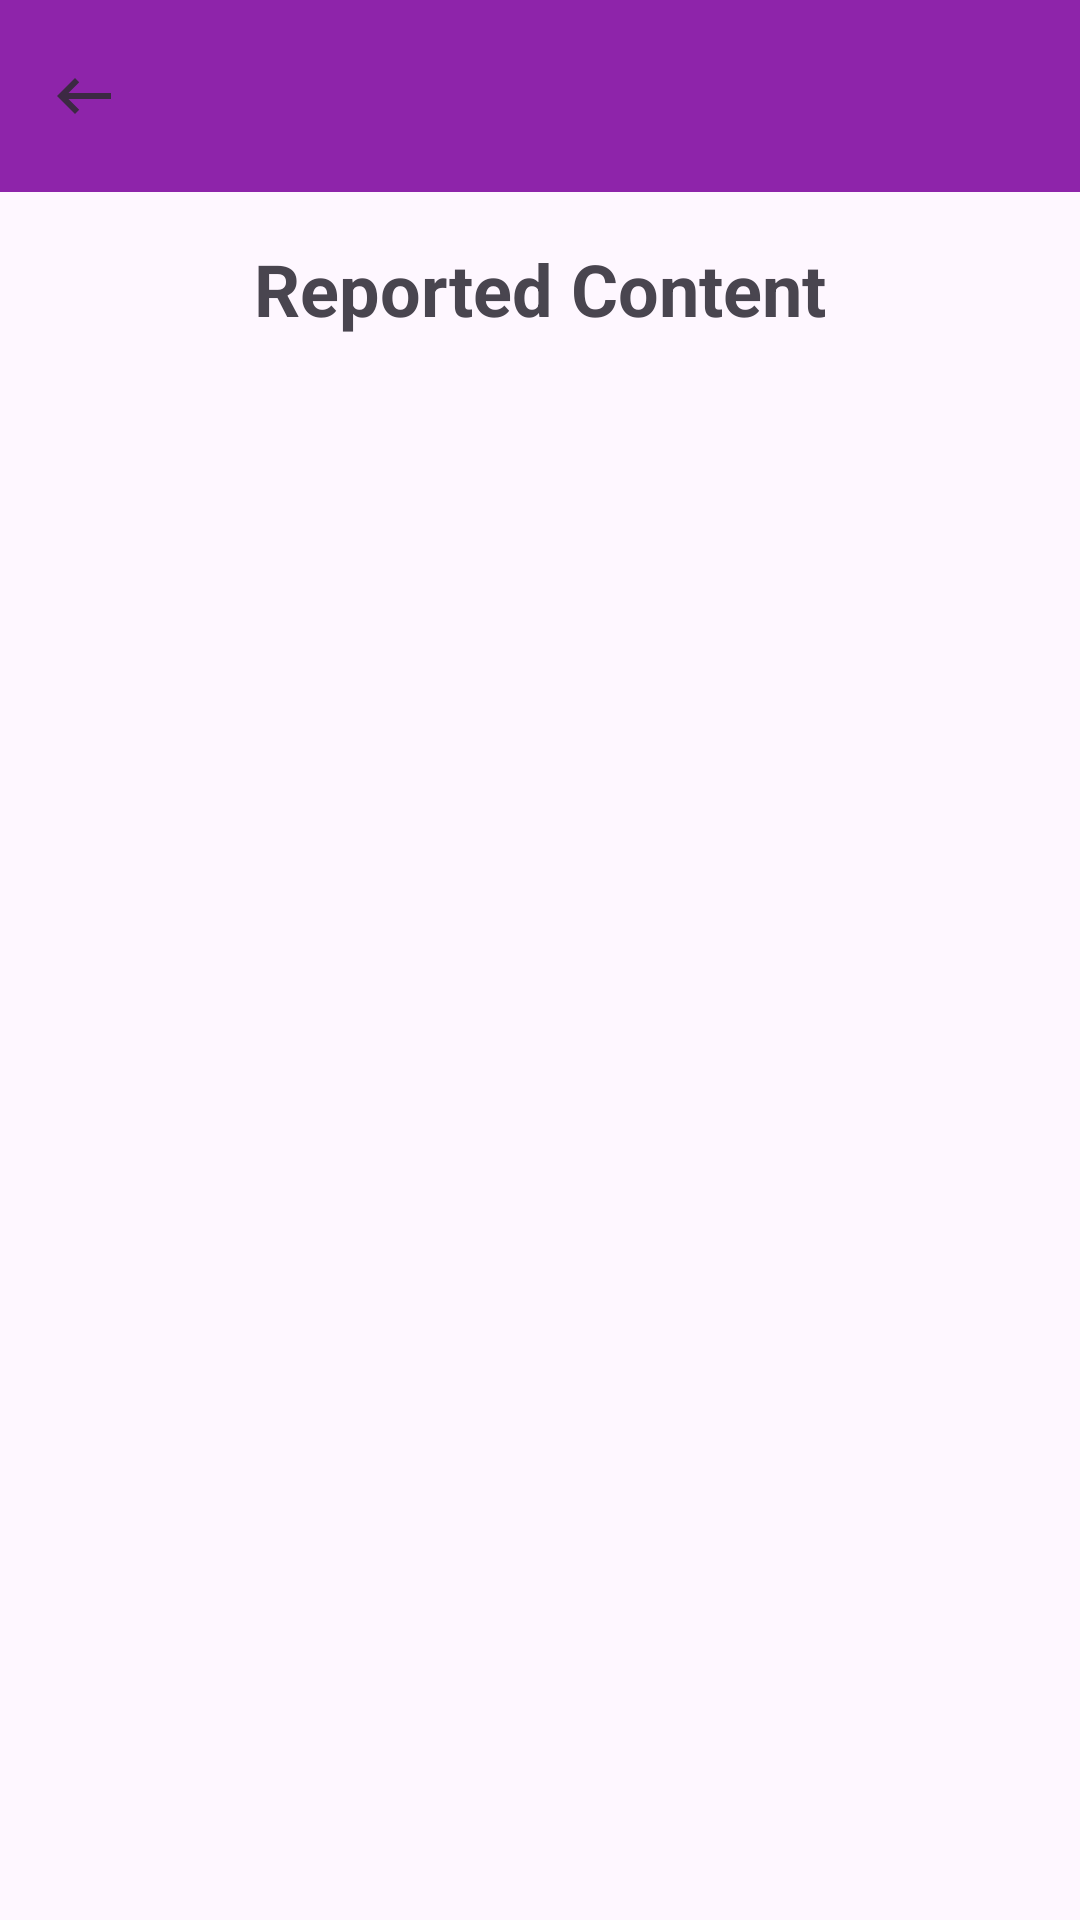

Named icons in this screenshot (1080*1920) and their centers, (x=x, y=y):
backarrow: (x=84, y=96)
